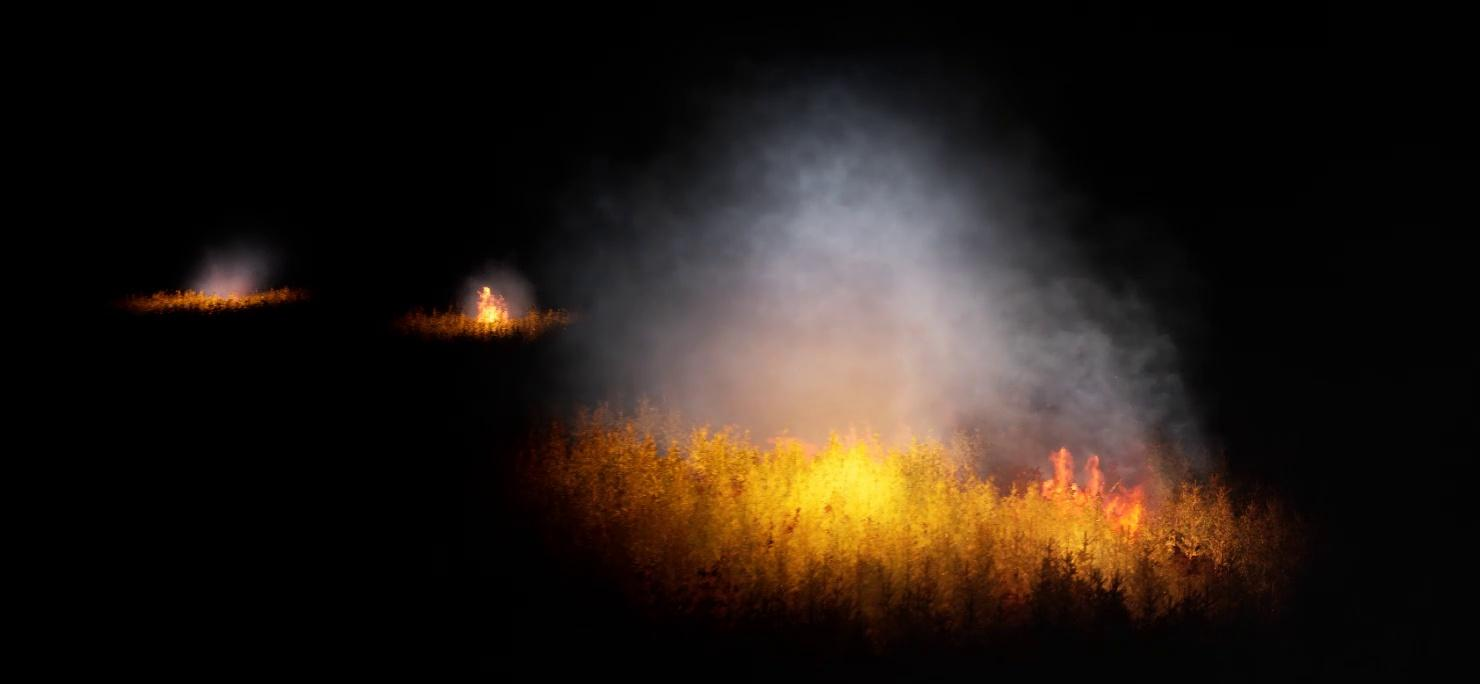fire: (555, 397, 1278, 602), (473, 288, 510, 323)
smoke: (570, 59, 1229, 505), (462, 268, 544, 310), (189, 255, 273, 294)
